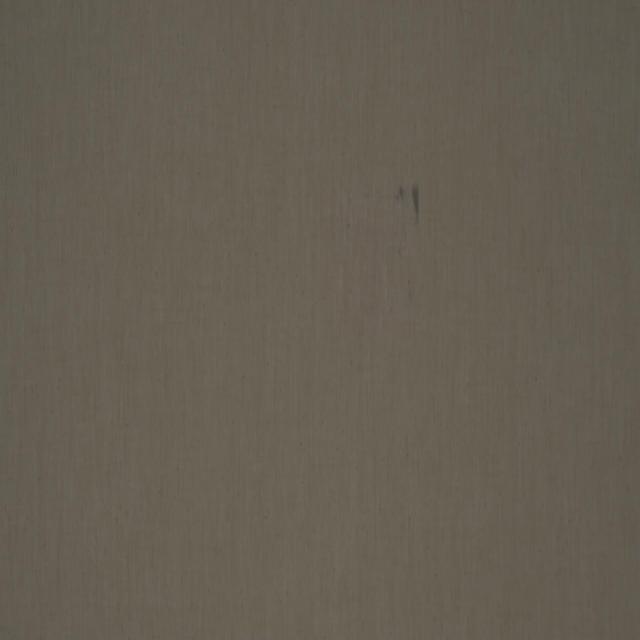dirty: (411, 184, 421, 226), (396, 186, 404, 200)
